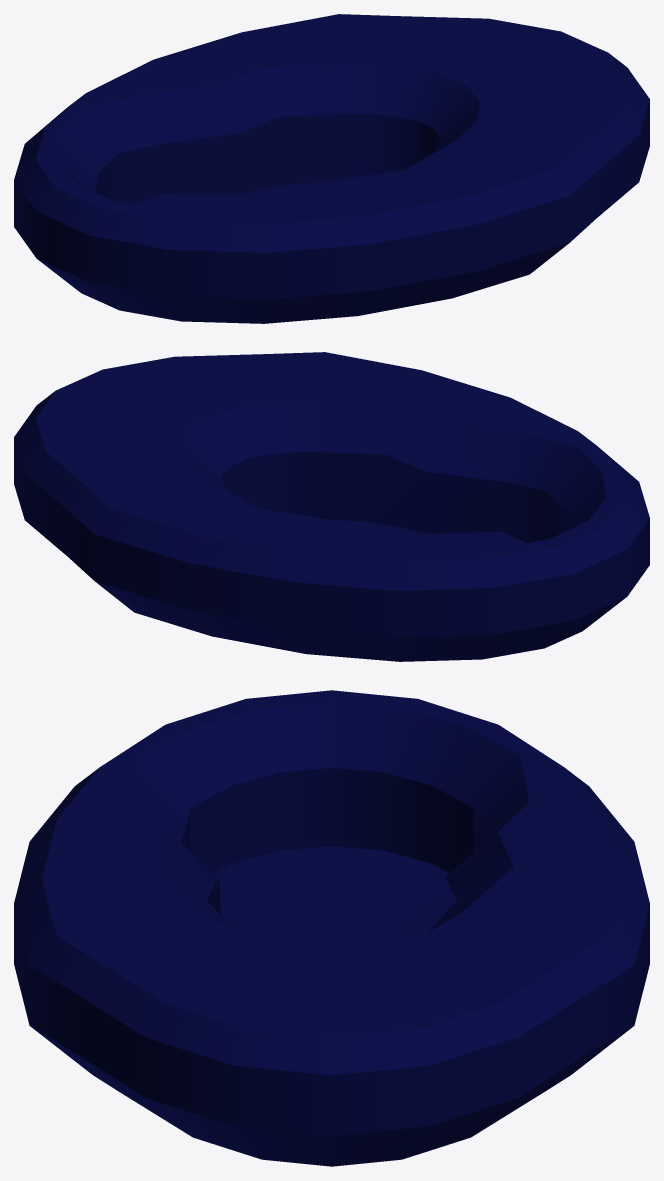
File: bacinica (1).fbx
3 renders of one model, top to bottom at view 1: azimuth 30°, elevation 25°; view 2: azimuth 150°, elevation 25°; view 3: azimuth 270°, elevation 25°, orthographic. The views are drawn at different scales.
Visible parts, largest first — view 1: pCylinder1; view 2: pCylinder1; view 3: pCylinder1.
Part boxes in pixels (bbox=[...]): pCylinder1: bbox=[14, 14, 649, 323]; pCylinder1: bbox=[14, 352, 649, 661]; pCylinder1: bbox=[14, 690, 649, 1166].
Size of the model in its own units: 16.29 by 2.96 by 11.77.
